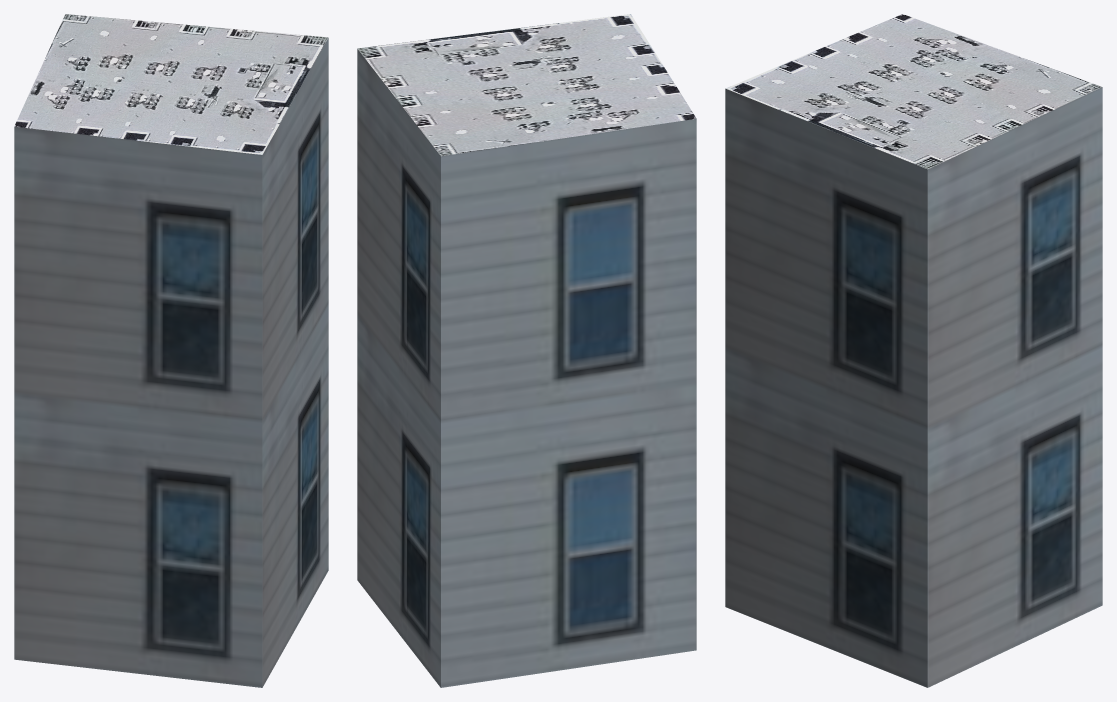
File: ResTex__1400.fbx
3 renders of one model, left to right at view 1: azimuth 30°, elevation 25°; view 2: azimuth 150°, elevation 25°; view 3: azimuth 270°, elevation 25°, orthographic. The views are drawn at different scales.
Parts seen in each view (by area): view 1: CityEngineMaterial_18_m, CityEngineMaterial_8_m; view 2: CityEngineMaterial_18_m, CityEngineMaterial_8_m; view 3: CityEngineMaterial_18_m, CityEngineMaterial_8_m.
Boxes of the visible parts, bbox=[...] form: CityEngineMaterial_18_m: bbox=[14, 38, 328, 687]; CityEngineMaterial_8_m: bbox=[14, 14, 328, 154]; CityEngineMaterial_18_m: bbox=[357, 49, 696, 687]; CityEngineMaterial_8_m: bbox=[357, 14, 696, 156]; CityEngineMaterial_18_m: bbox=[725, 87, 1102, 687]; CityEngineMaterial_8_m: bbox=[726, 14, 1101, 169].
Size of the model in its own units: 3.86 by 6 by 3.95.
2 materials, 2 textured.
